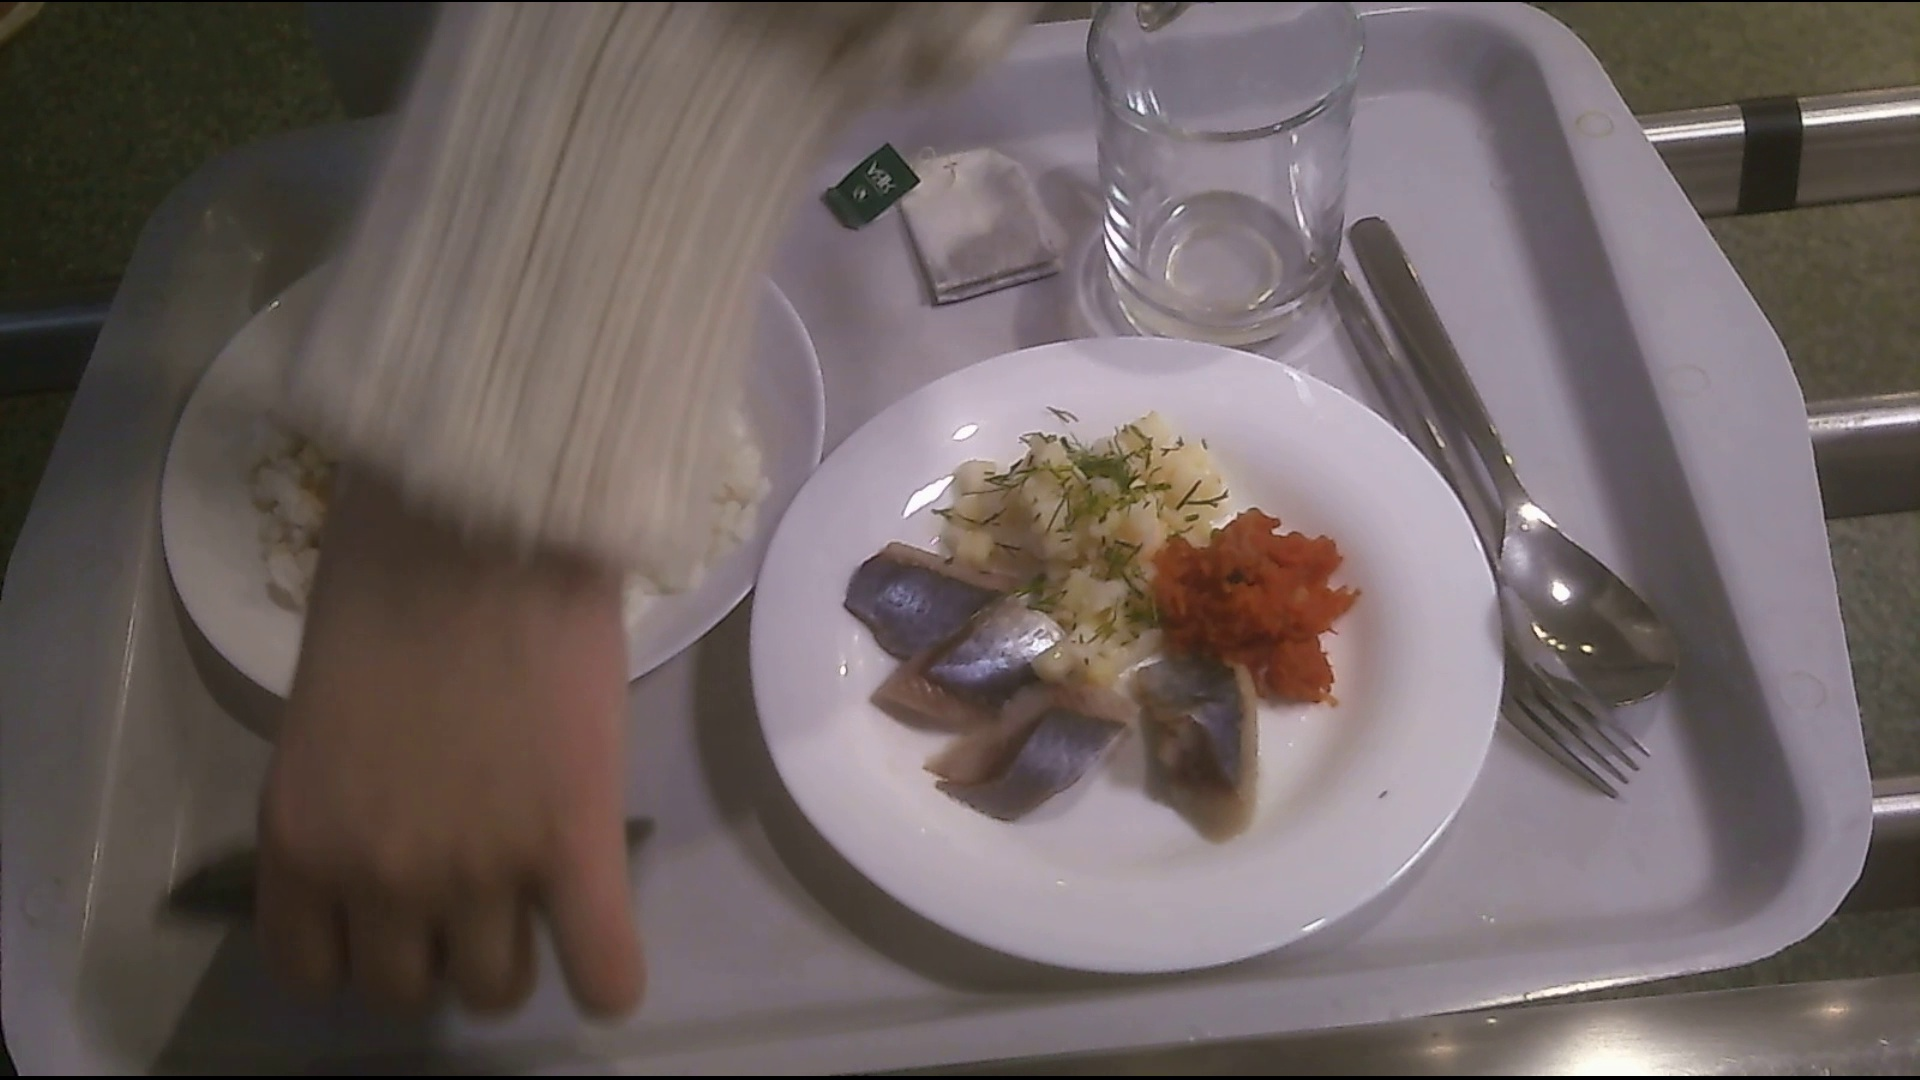cutlery: (1342, 218, 1673, 811)
drink: (1095, 1, 1362, 357)
other: (832, 131, 1063, 314)
plate: (735, 336, 1502, 975)
